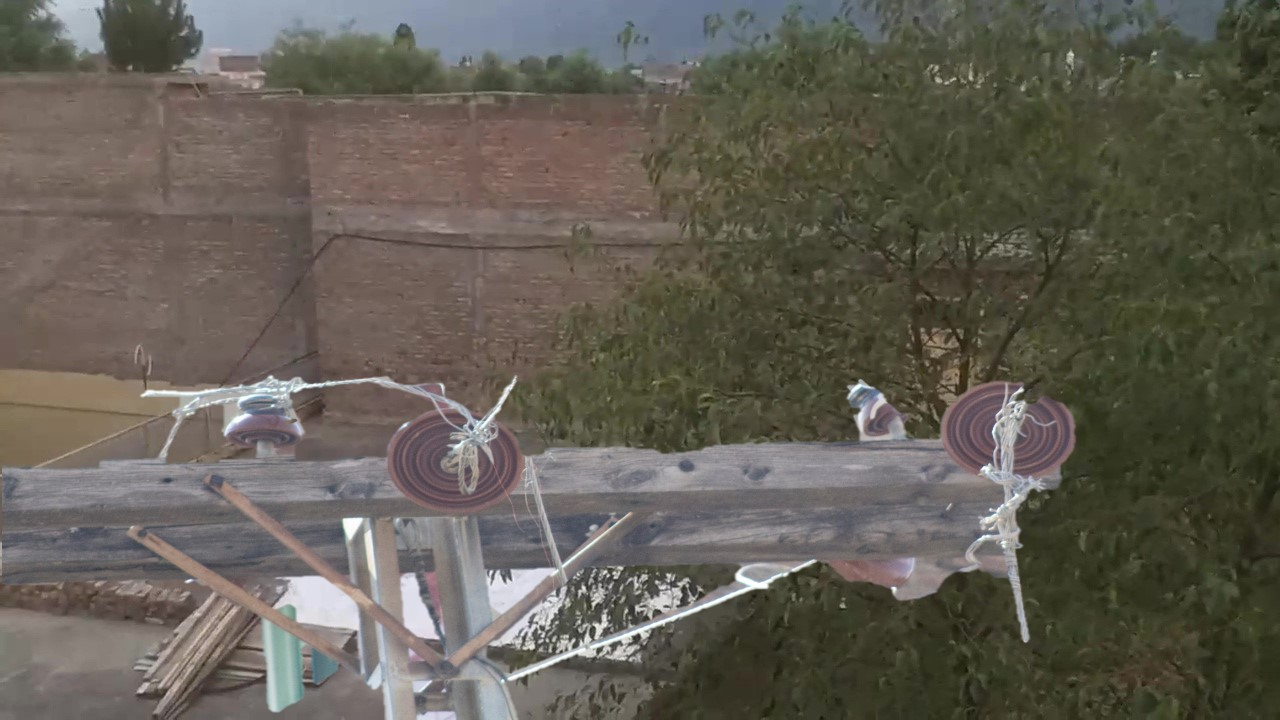defect_pin: (842, 373, 910, 443)
insulator_disc: (939, 373, 1085, 488), (381, 400, 528, 513)
insulator_pin: (214, 380, 308, 454)
